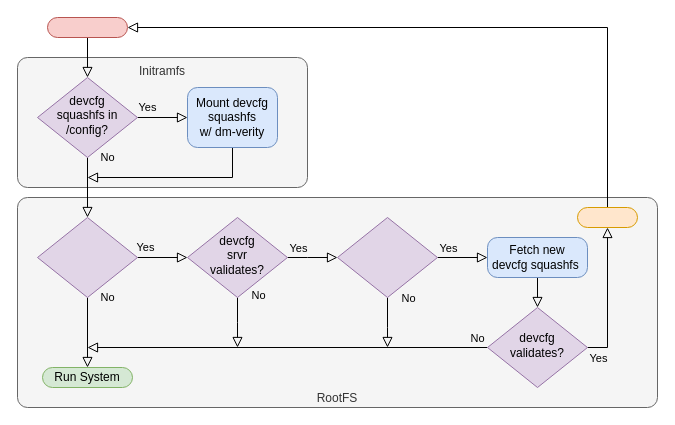
The diagram is 675 pixels wide and 425 high, and some of its shapes have lost their labels. The shapes that lost their labels are listed below. From the top down, each one's box as (x1, y1, x2, y2) in pixels, then its label:
(46, 16, 128, 38): Power ON
(576, 206, 638, 228): Reboot
(36, 216, 138, 298): devcfg srvr available?
(336, 216, 438, 298): new devcfg for device on srvr?
